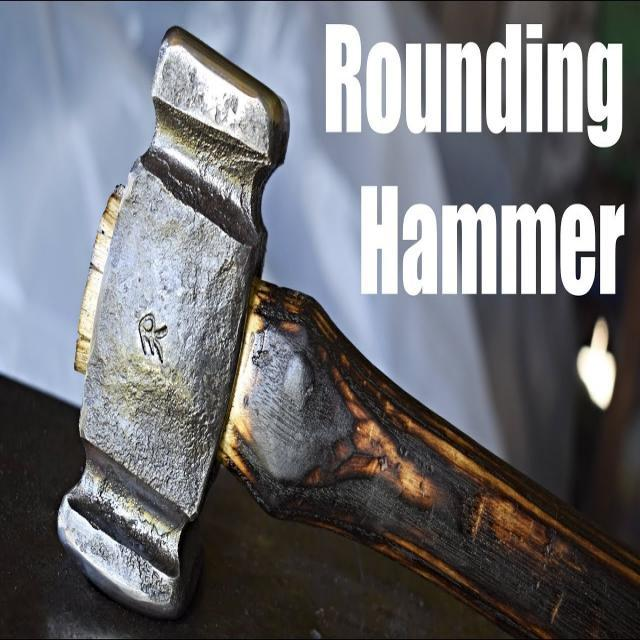hammer: (52, 20, 640, 640)
